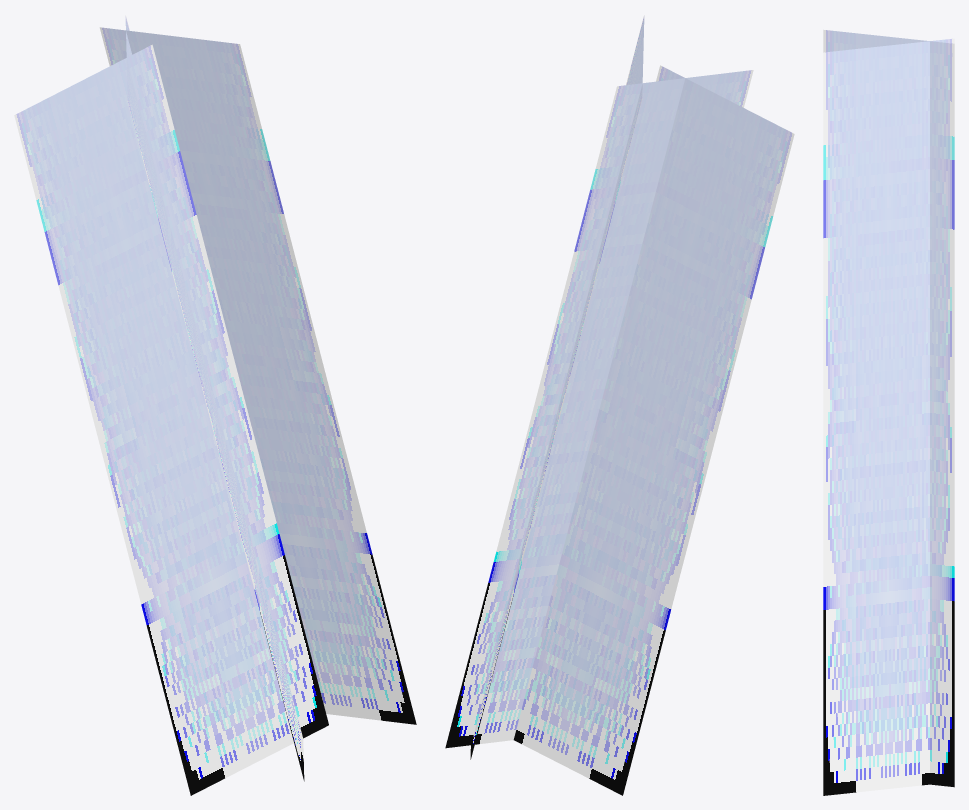
Rendered from atm_light_shaft.glb.
3 views of the same model, side by side, from view 1: azimuth 30°, elevation 25°; view 2: azimuth 150°, elevation 25°; view 3: azimuth 270°, elevation 25° (orthographic). The views are drawn at different scales.
Visible parts, largest first — view 1: shaft_0, shaft_2, shaft_1; view 2: shaft_0, shaft_1, shaft_2; view 3: shaft_2, shaft_1.
Boxes of the visible parts, bbox=[...] form: shaft_0: bbox=[14, 44, 328, 795]; shaft_2: bbox=[99, 27, 416, 724]; shaft_1: bbox=[125, 15, 304, 781]; shaft_0: bbox=[513, 65, 794, 795]; shaft_1: bbox=[445, 70, 753, 748]; shaft_2: bbox=[470, 15, 644, 759]; shaft_2: bbox=[823, 38, 954, 795]; shaft_1: bbox=[823, 29, 954, 787].
Bounding box in the file's own units: 4.11 × 8.3 × 1.39.
1 material, 1 textured.
